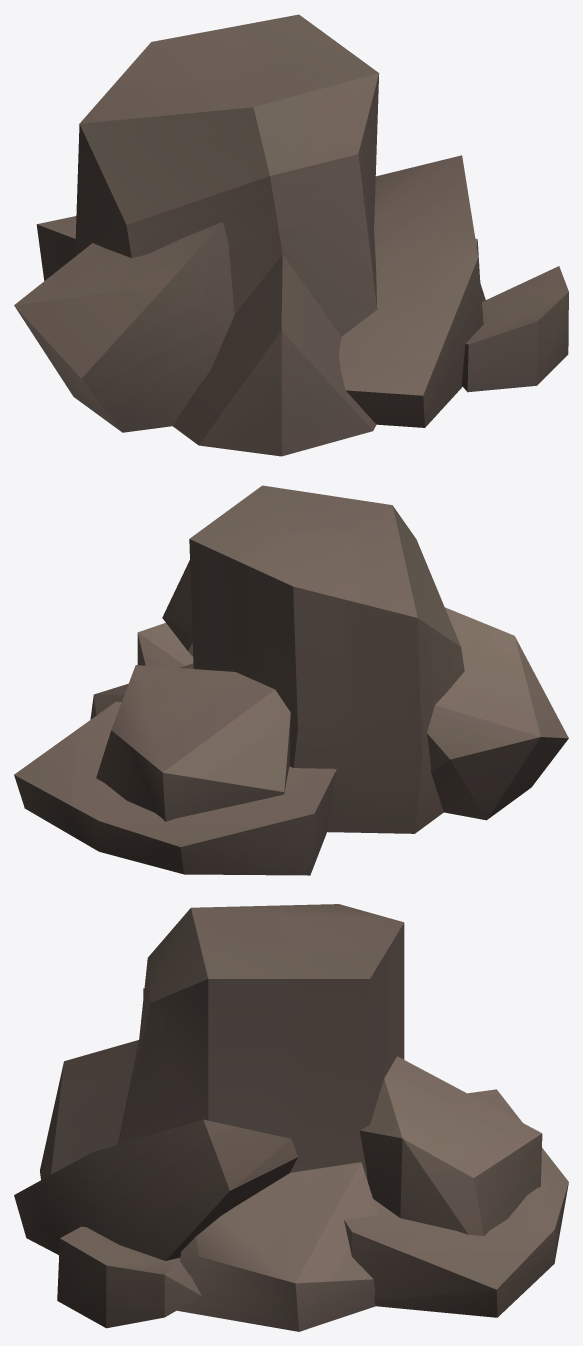
Rendered from kcas_rocks.glb.
The picture shows the model from 3 angles, top to bottom: view 1: azimuth 30°, elevation 25°; view 2: azimuth 150°, elevation 25°; view 3: azimuth 270°, elevation 25°; orthographic projection. The views are drawn at different scales.
Parts seen in each view (by area): view 1: rocks; view 2: rocks; view 3: rocks.
Part boxes in pixels (<box>): rocks: <box>14,14,568,456</box>; rocks: <box>14,485,568,875</box>; rocks: <box>14,904,568,1331</box>.
Bounding box in the file's own units: 2.84 × 1.56 × 2.74.
Materials: 1 (1 with a texture image).
